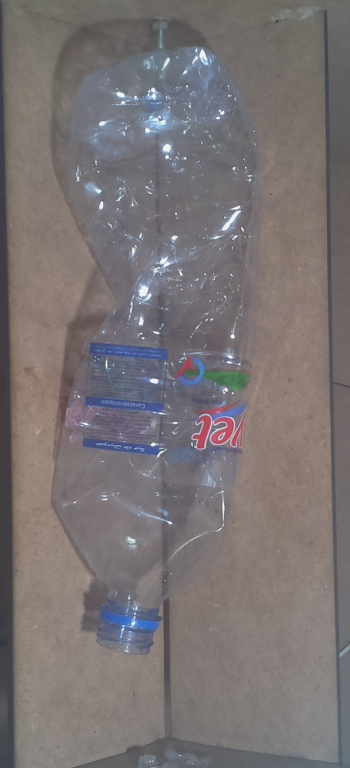Bouteille_1.5L: (45, 36, 273, 662)
